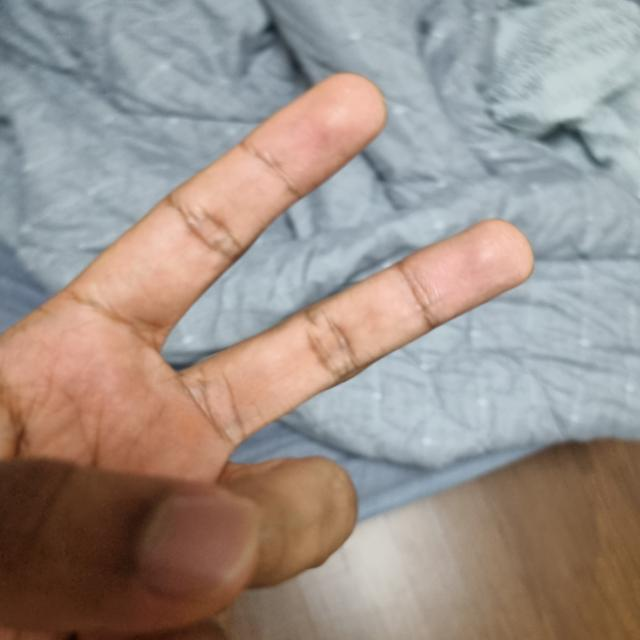Scissors: (0, 78, 527, 638)
